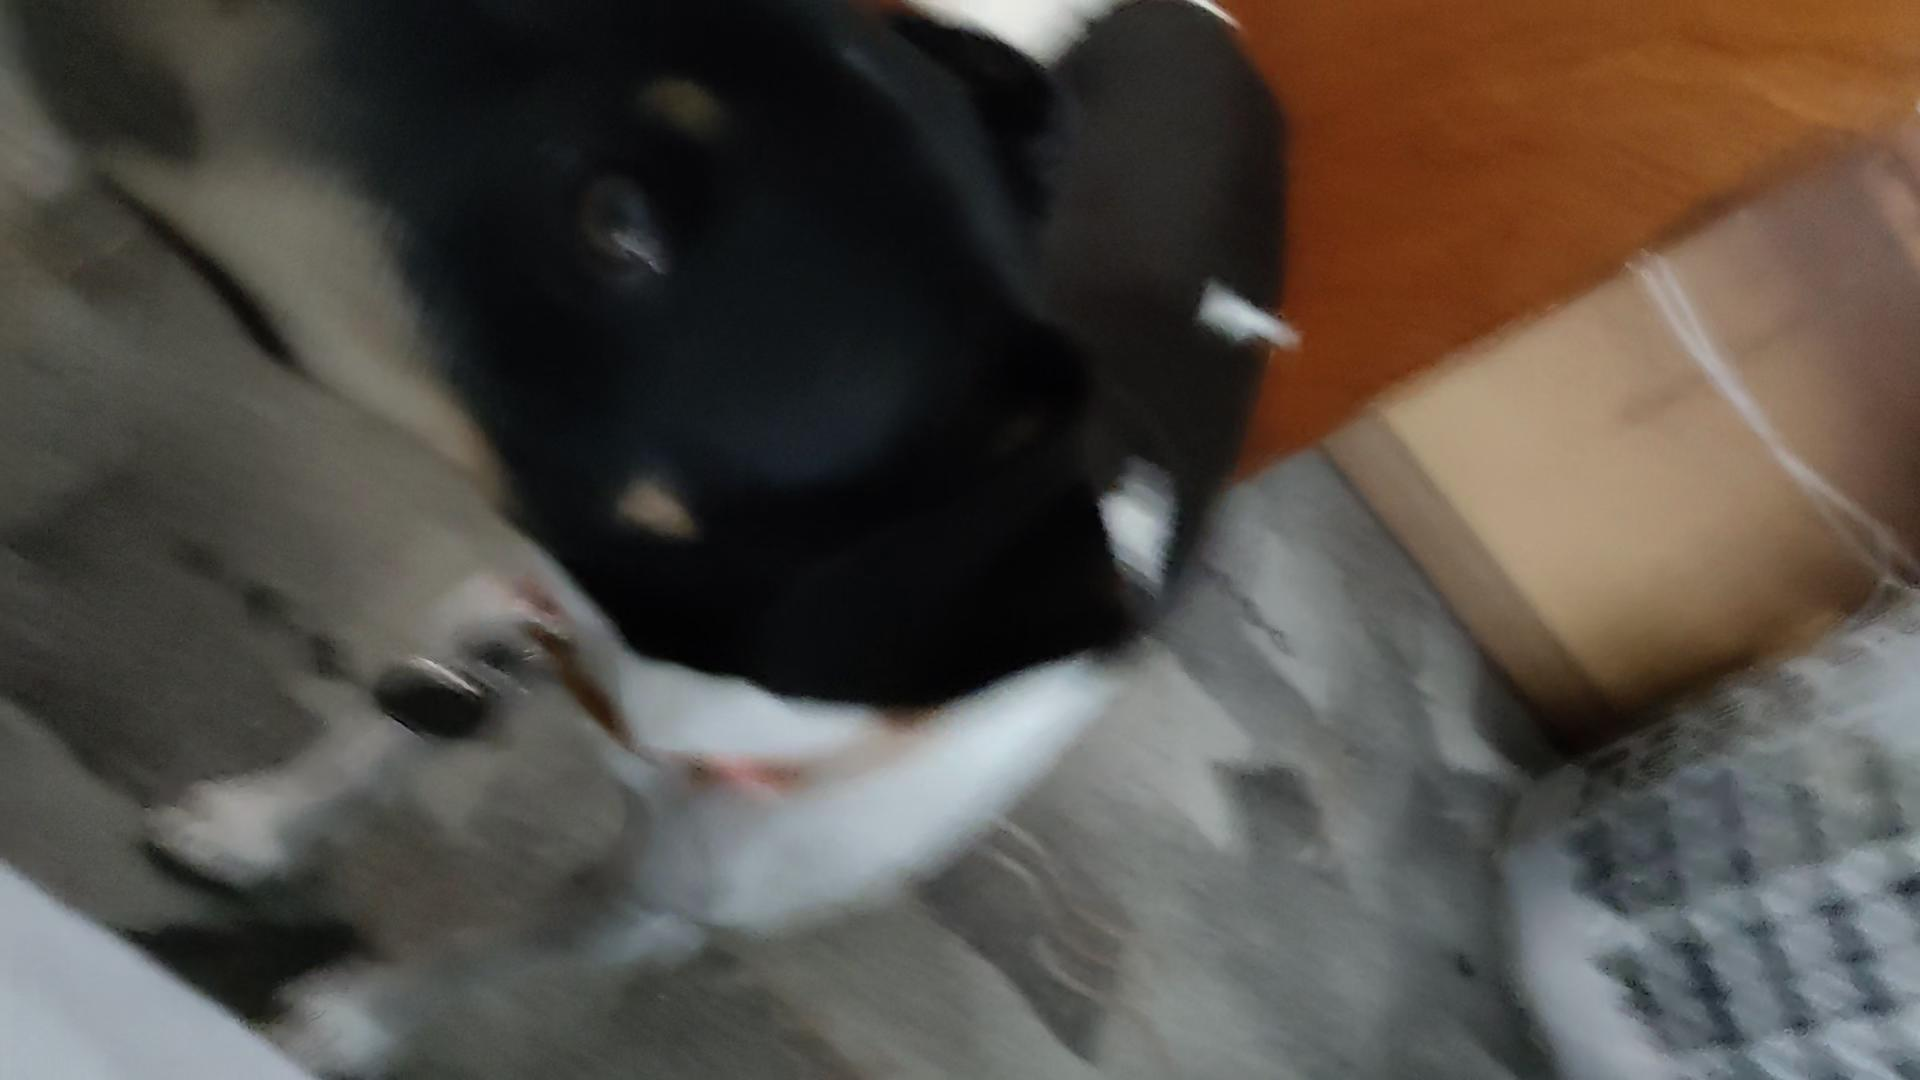Dog: (0, 0, 1313, 1079)
